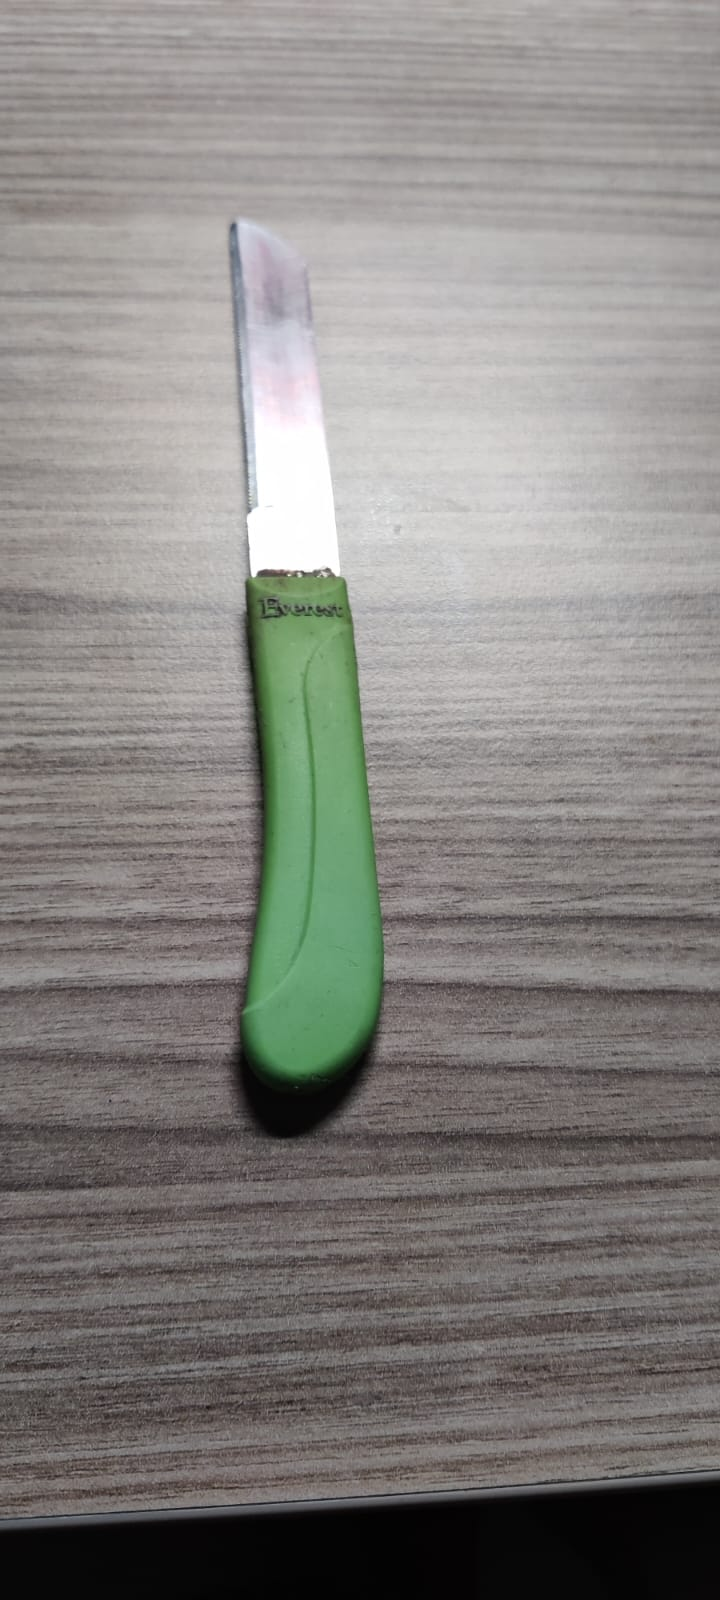knife: (233, 220, 370, 1089)
